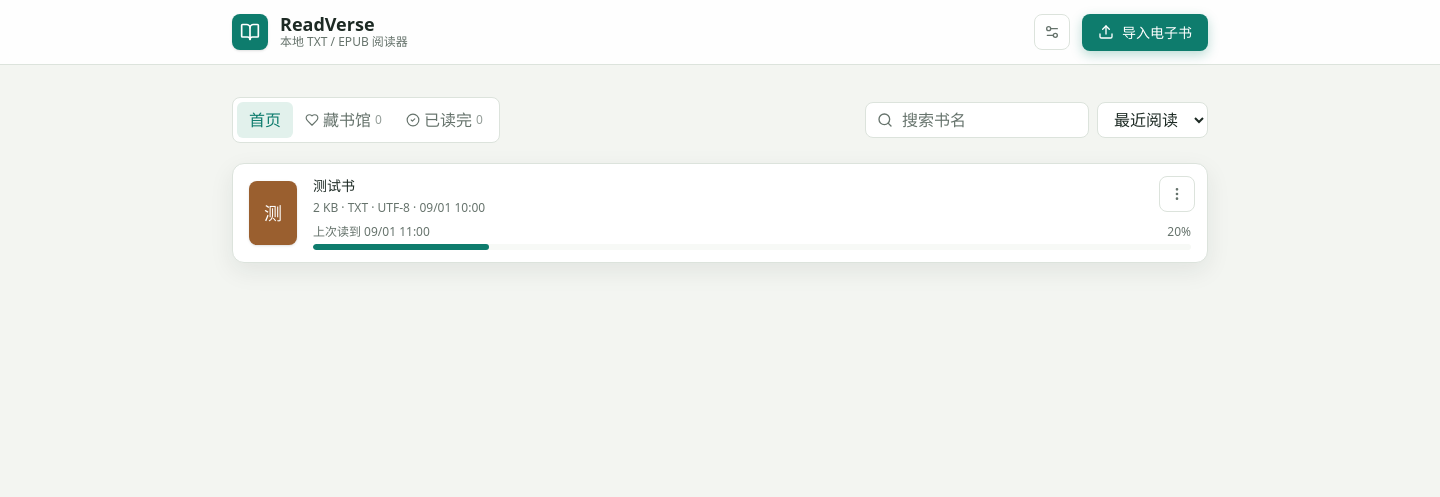
Shelf › deletes a book after confirmation
Check: the text "测试书" is shown, box [313,176,355,196]
Click the button titled "更多操作". click: click(1177, 194)
box: [1159,176,1195,212]
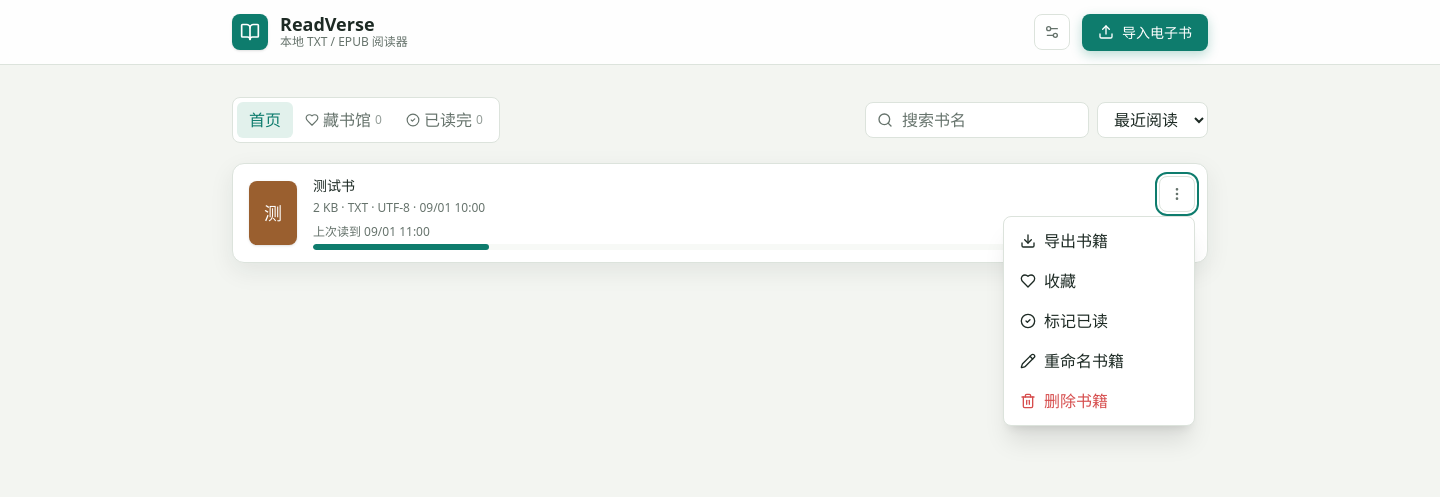
Click the button "删除书籍". click: click(1099, 401)
box: [1008,381,1190,421]
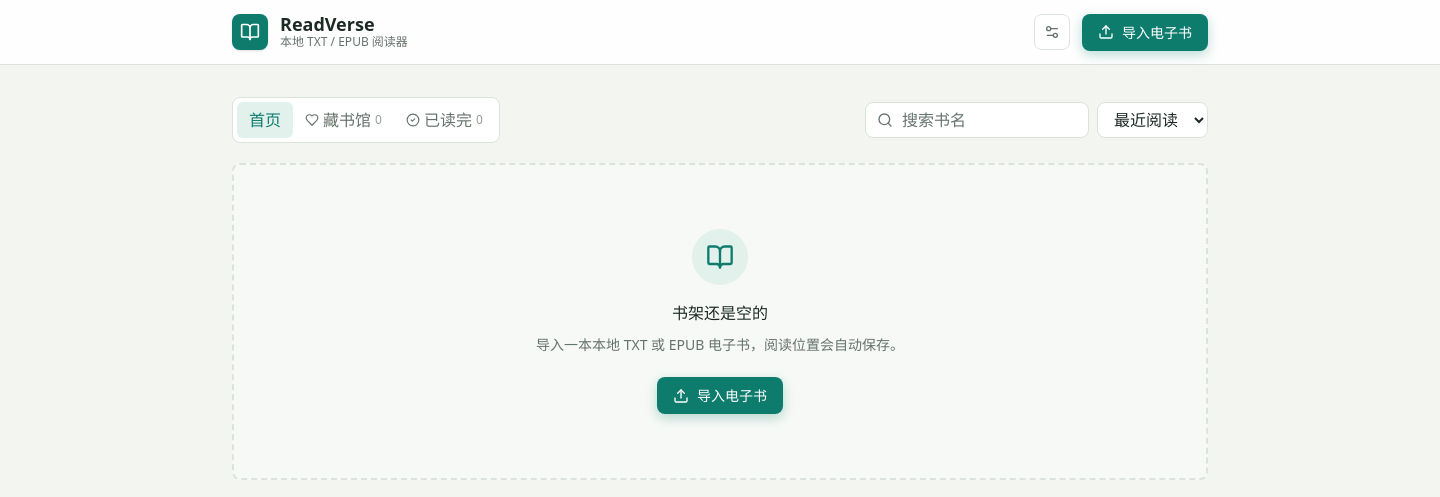
Check: the button "测试书" is gone
